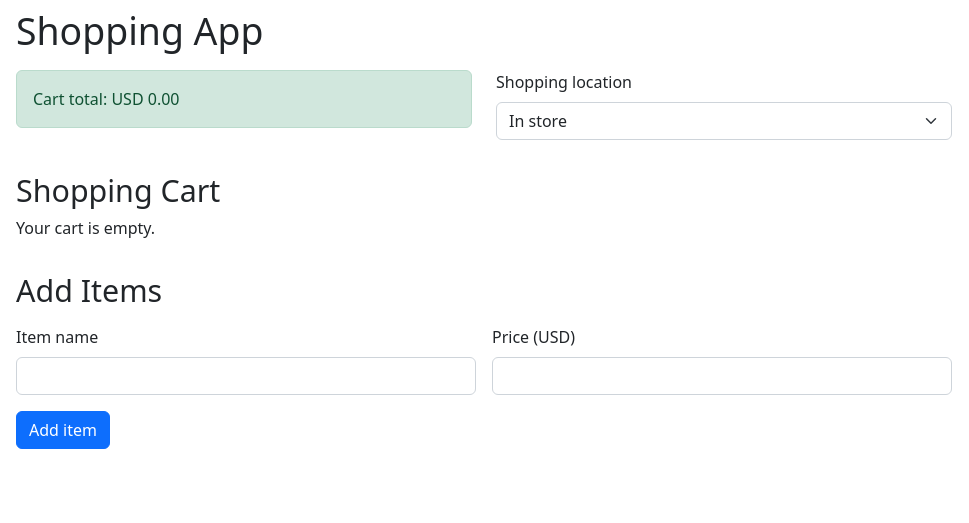
Test case: adds and removes items while keeping an exact decimal total
The width and height of the screenshot is (969, 523).
Check: the text "Your cart is empty." is shown, box [16,217,155,239]
Type "Apples" into the field labelled "Item name" at (246, 376), box [16,357,476,395]
Type "0.10" into the field labelled "Price (USD)" at (722, 376), box [492,357,952,395]
Click the button "Add item" at (63, 430), box [16,411,110,449]
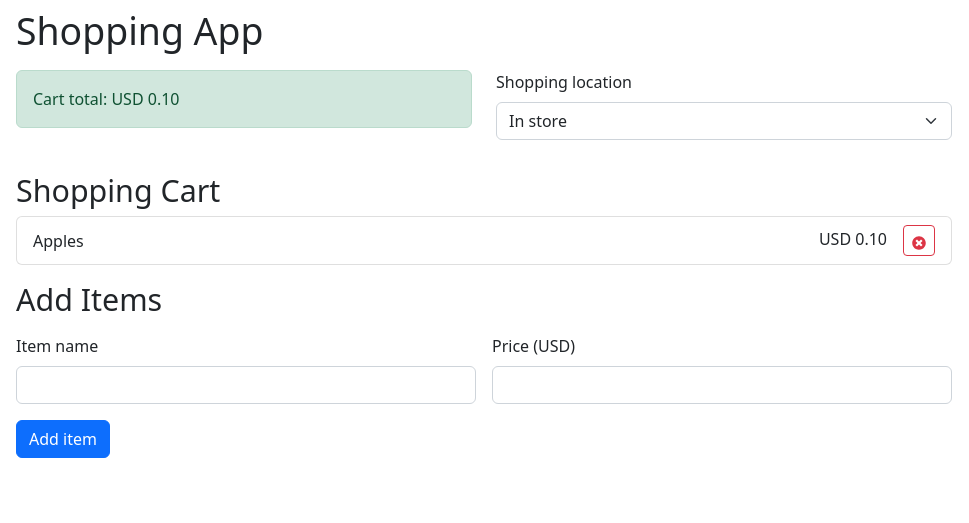
Type "Milk" into the field labelled "Item name" at (246, 385), box [16,366,476,404]
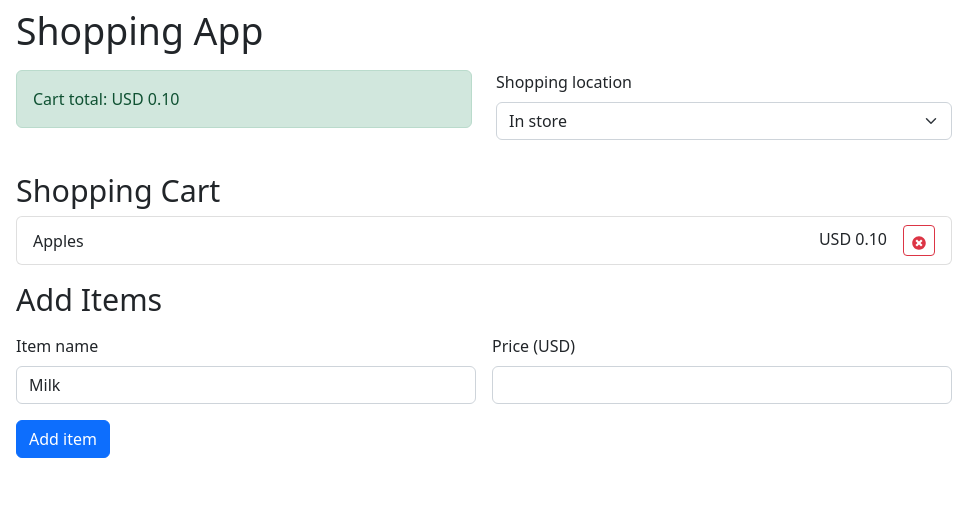
Type "0.20" into the field labelled "Price (USD)" at (722, 385), box [492,366,952,404]
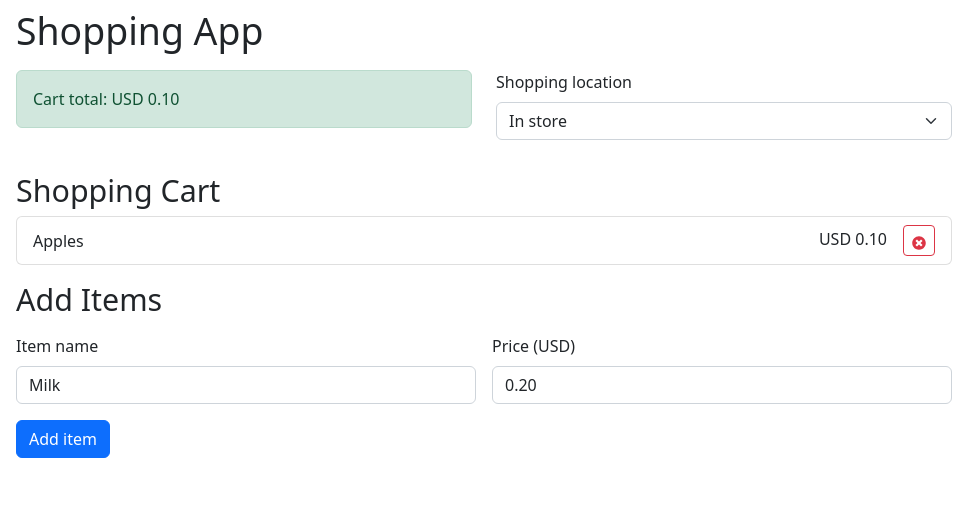
Click the button "Add item" at (63, 439), box [16,420,110,458]
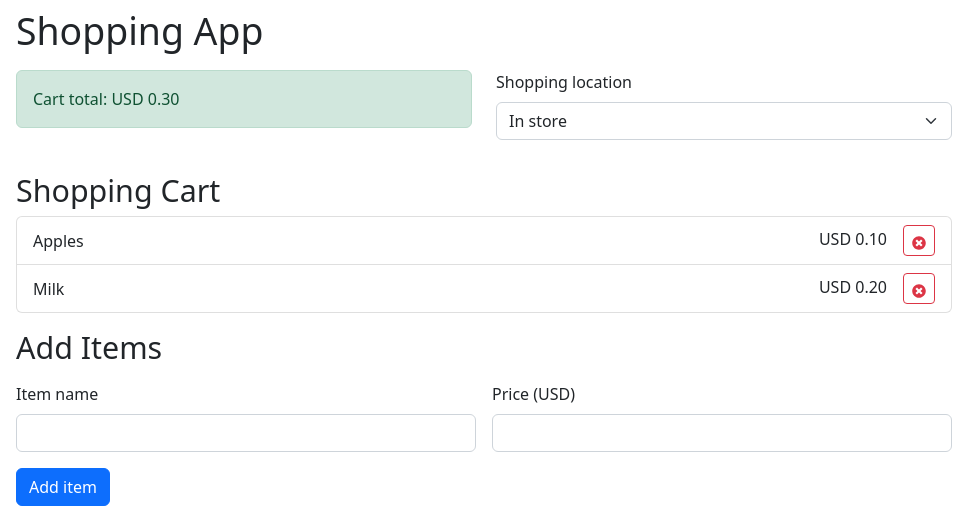
Check: the message reads "Cart total: USD 0.30", box [16,70,472,128]
Click the button named "Remove Apples" at (919, 241), box [903,225,935,256]
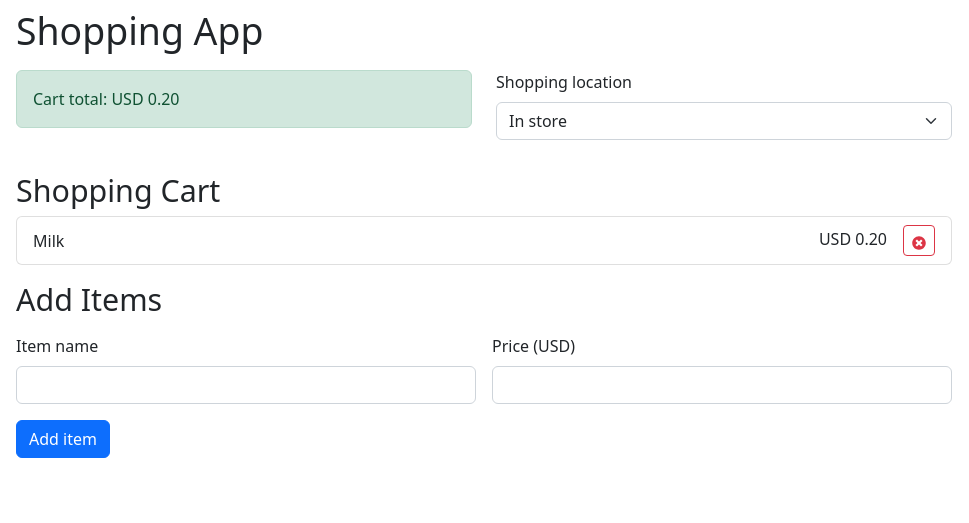
Check: the text "Apples" is gone
Check: the message reads "Cart total: USD 0.20", box [16,70,472,128]
Click the button named "Remove Milk" at (919, 241), box [903,225,935,256]
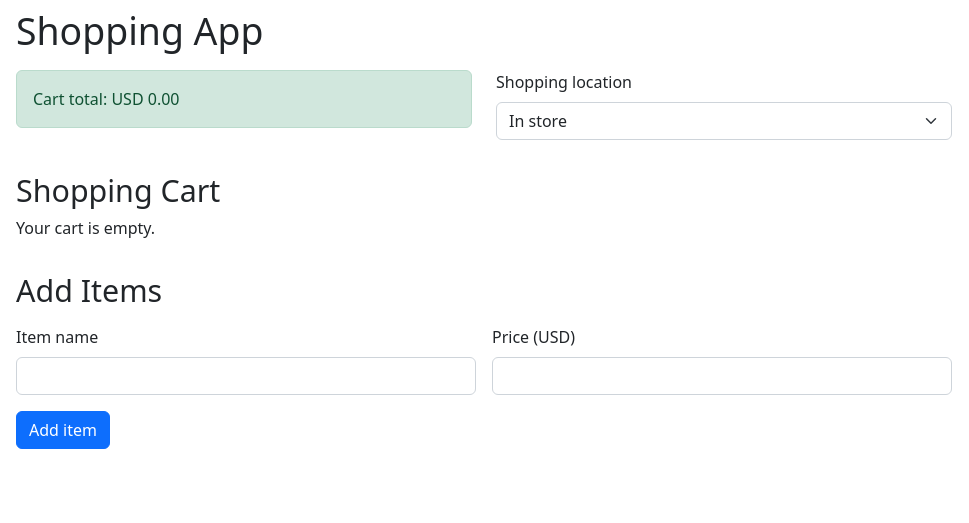
Check: the text "Your cart is empty." is shown, box [16,217,155,239]
Check: the message reads "Cart total: USD 0.00", box [16,70,472,128]
